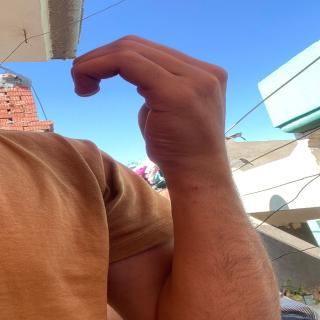HAA: (60, 24, 272, 170)
